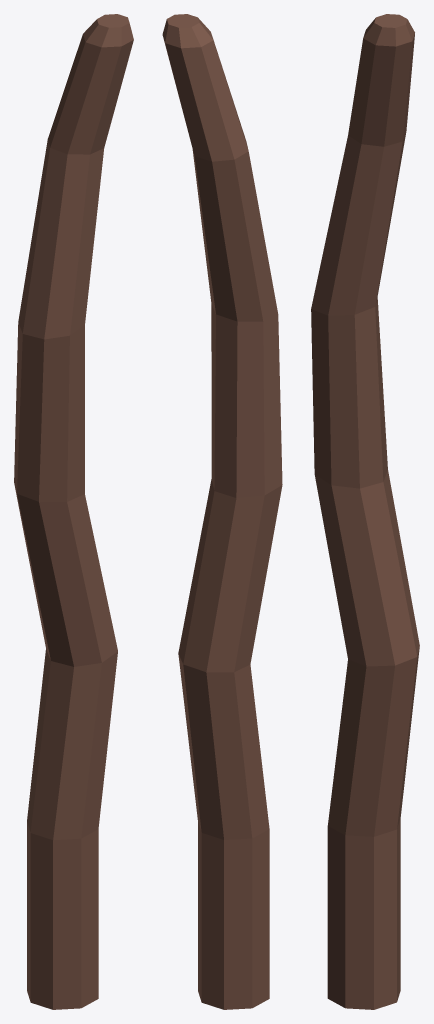
Rendered from WoodenWand.fbx.
3 views of the same model, side by side, from view 1: azimuth 30°, elevation 25°; view 2: azimuth 210°, elevation 25°; view 3: azimuth 330°, elevation 25° (orthographic).
Visible parts, largest first — view 1: WoodenWand; view 2: WoodenWand; view 3: WoodenWand.
Boxes of the visible parts, <box> form: WoodenWand: <box>14,14,133,1009</box>; WoodenWand: <box>162,14,282,1009</box>; WoodenWand: <box>311,14,419,1009</box>.
Size of the model in its own units: 1.45 by 13.08 by 1.04.
